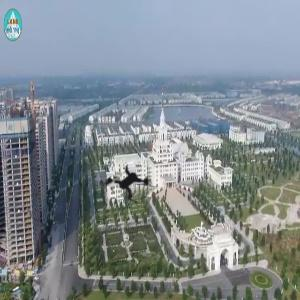drone: (86, 143, 171, 228)
